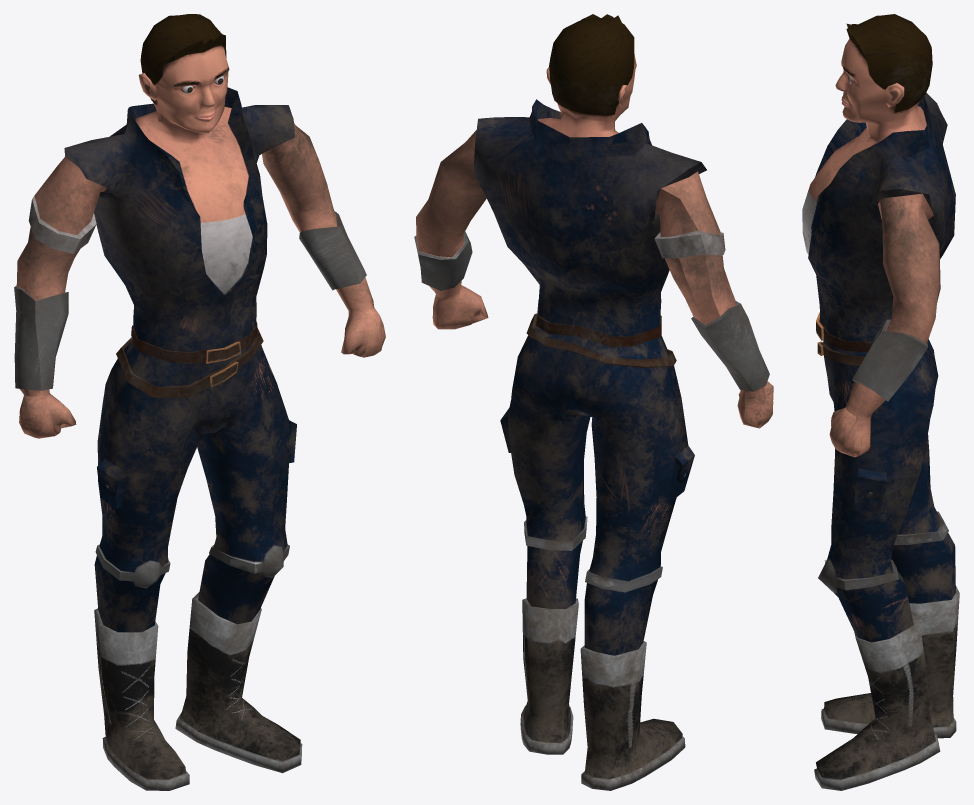
Rendered from Anim_abrir_puerta_ok_jugador.0015.obj.
3 renders of one model, left to right at view 1: azimuth 30°, elevation 25°; view 2: azimuth 150°, elevation 25°; view 3: azimuth 270°, elevation 25°, orthographic.
Parts seen in each view (by area): view 1: polySurface1; view 2: polySurface1; view 3: polySurface1.
Boxes of the visible parts, box(x1,y1,x2,y2) form: polySurface1: box(14, 14, 385, 790); polySurface1: box(414, 14, 773, 790); polySurface1: box(802, 14, 959, 790).
Bounding box in the file's own units: 4.78 × 9.65 × 1.89.
